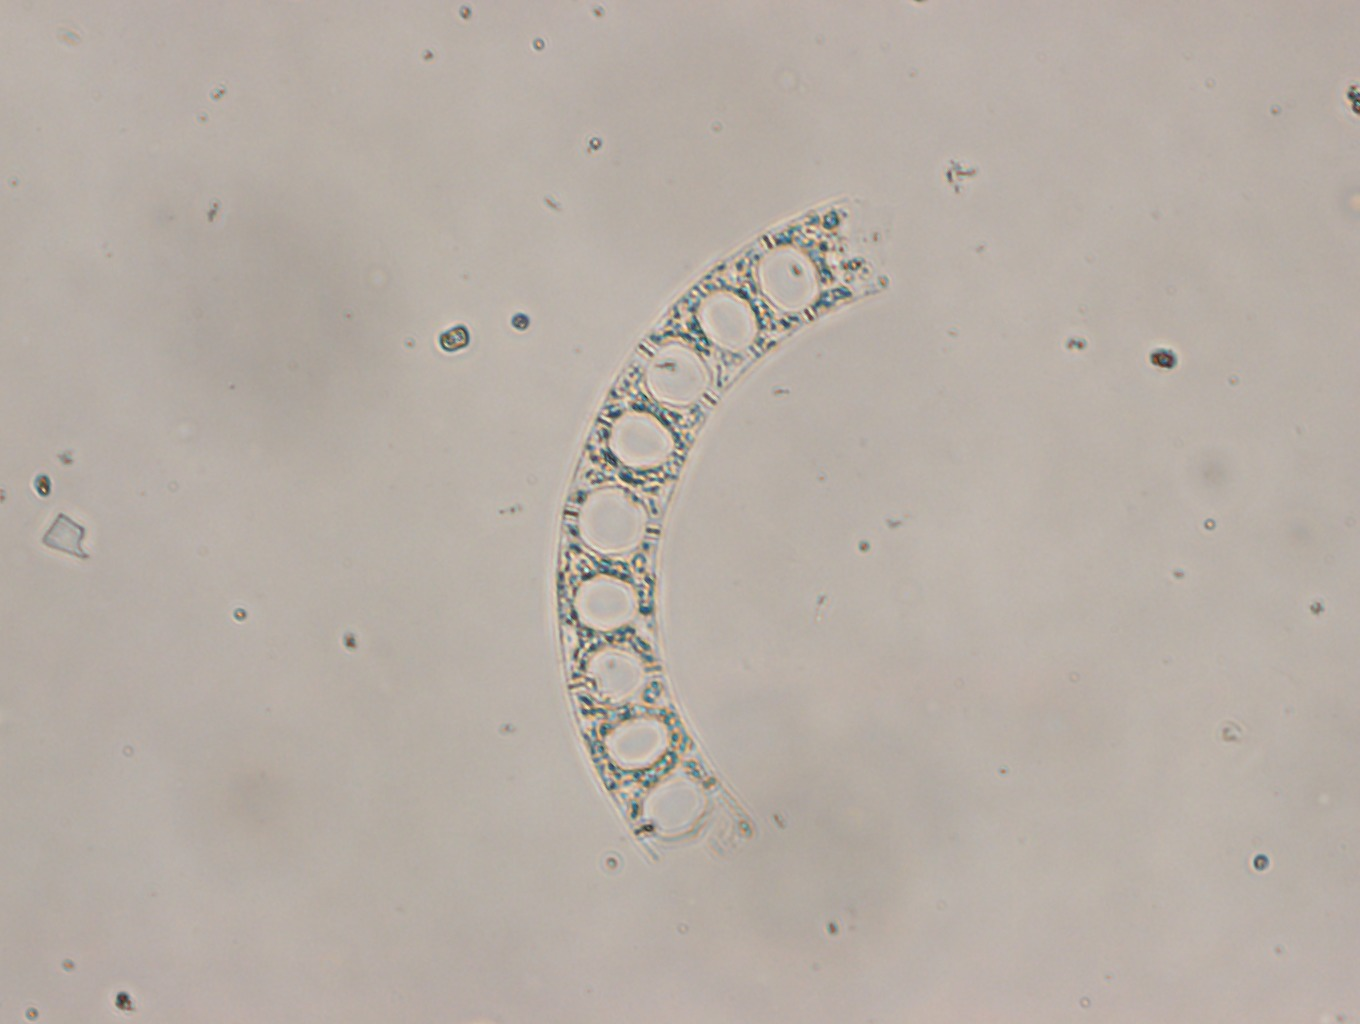eucampia: (536, 174, 894, 886)
